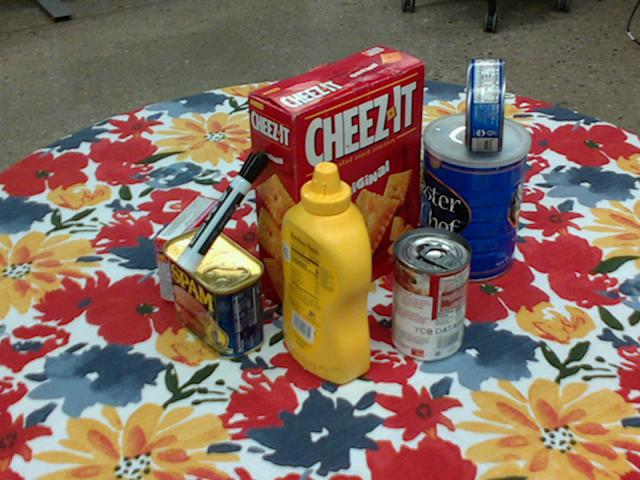cracker_box: (247, 45, 426, 318)
gelatin_box: (155, 195, 223, 304)
large_marker: (177, 148, 268, 271)
master_chef_can: (420, 113, 528, 283)
mug: (252, 126, 350, 225)
mustard_bottle: (282, 161, 372, 384)
potted_meat_can: (164, 227, 265, 359)
sugar_box: (306, 89, 466, 208)
tomato_soup_can: (391, 227, 471, 362)
tuna_fish_can: (466, 57, 505, 151)
